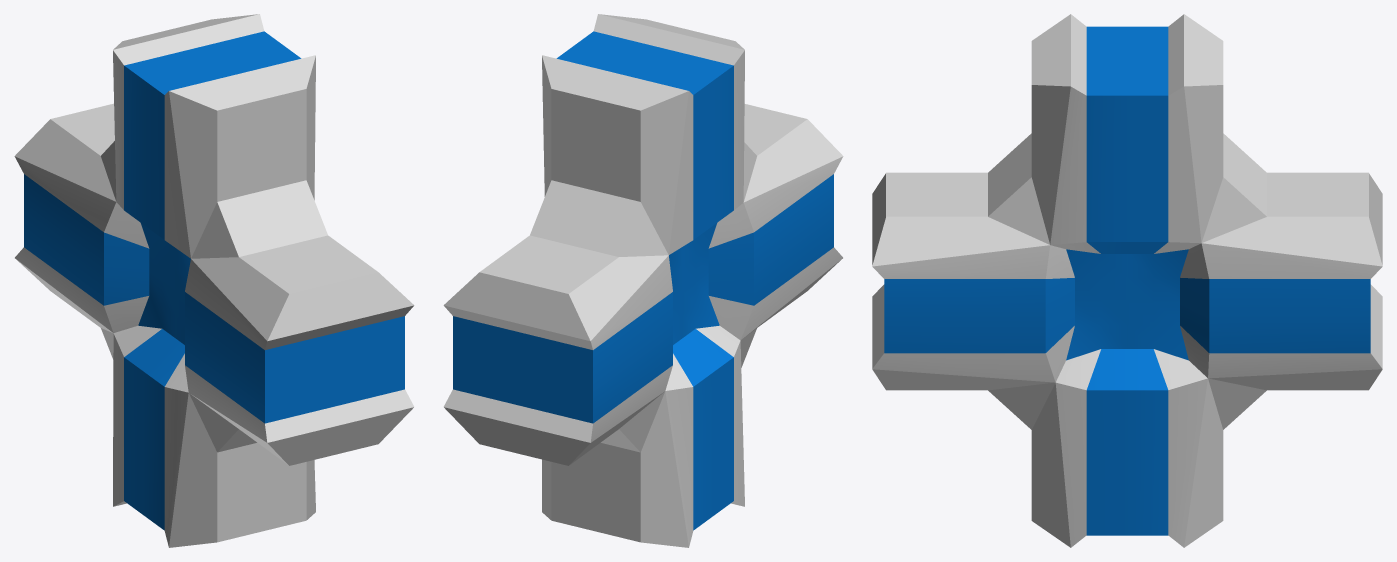
Rendered from Powerup3.fbx.
3 renders of one model, left to right at view 1: azimuth 30°, elevation 25°; view 2: azimuth 150°, elevation 25°; view 3: azimuth 270°, elevation 25°, orthographic.
Visible parts, largest first — view 1: Cube; view 2: Cube; view 3: Cube.
Part boxes in pixels (x1,y1,x2,y2): Cube: (14,14,414,547); Cube: (443,14,843,547); Cube: (872,14,1382,547).
Size of the model in its own units: 1.79 by 5.32 by 5.33.
